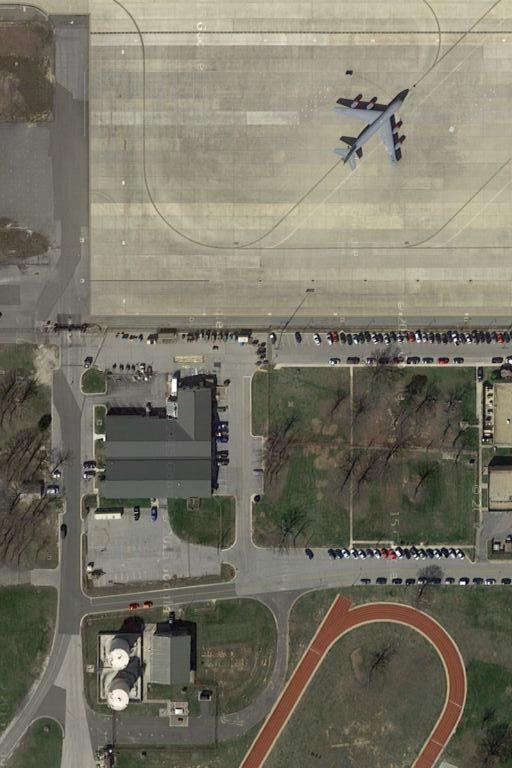KC-135: (330, 92, 407, 174)
